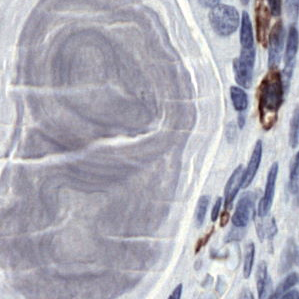Lymphocyte: (255, 67, 285, 130)
